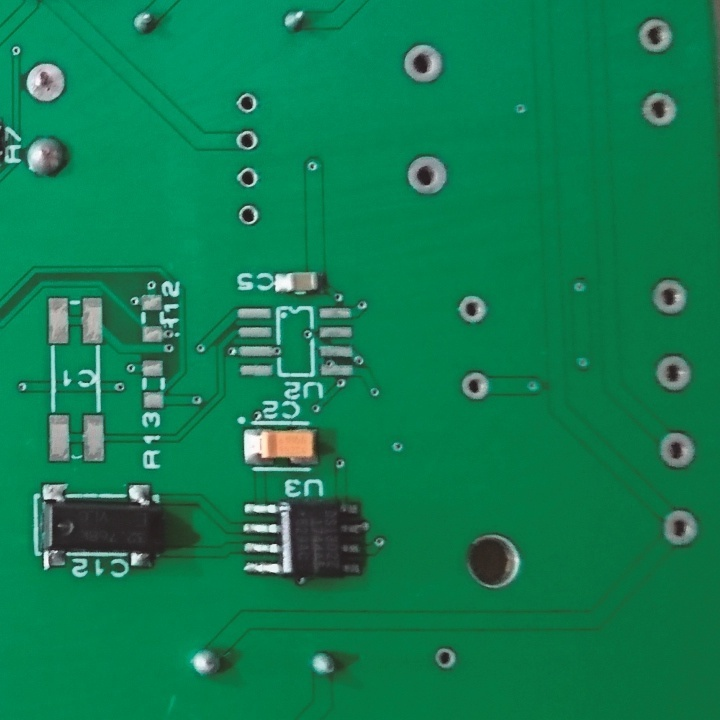F: (401, 150, 450, 199), (398, 41, 447, 87), (21, 59, 71, 104), (659, 503, 702, 552), (651, 352, 696, 396), (638, 89, 682, 130), (656, 429, 696, 472), (636, 16, 676, 58), (649, 276, 687, 317), (453, 292, 493, 327), (459, 367, 495, 403), (232, 90, 260, 118), (233, 128, 263, 152), (433, 645, 458, 673), (236, 201, 262, 227), (236, 166, 261, 192)
